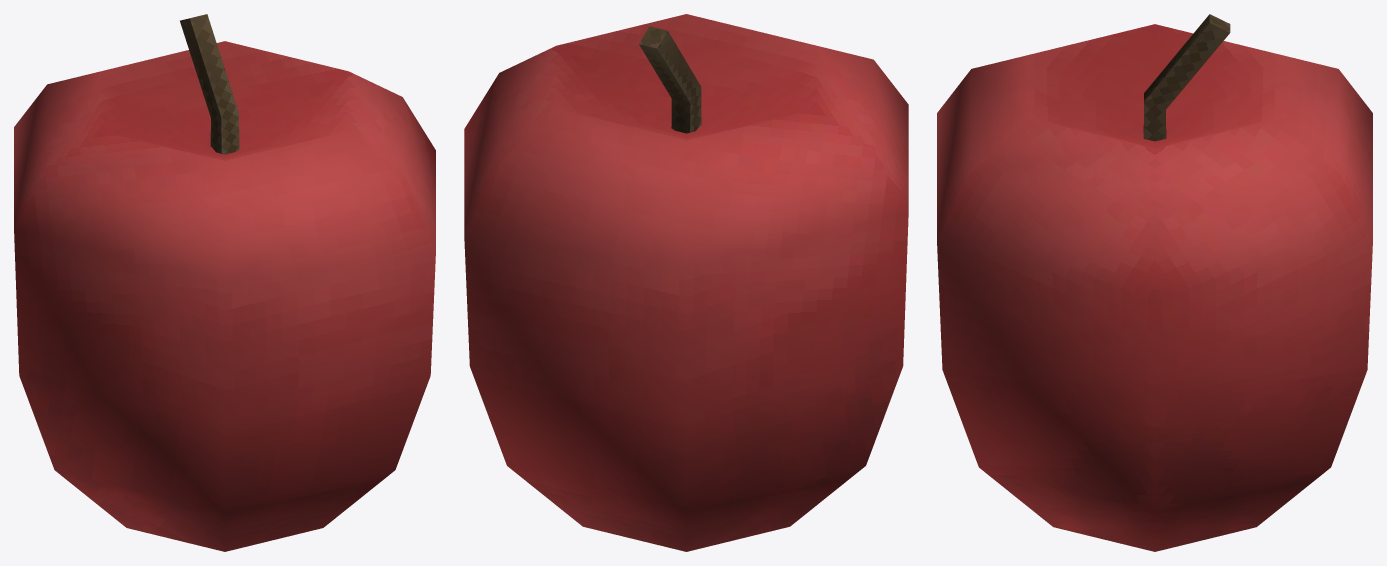
Rendered from Apple_Geo.fbx.
3 renders of one model, left to right at view 1: azimuth 30°, elevation 25°; view 2: azimuth 150°, elevation 25°; view 3: azimuth 270°, elevation 25°, orthographic. The views are drawn at different scales.
Parts seen in each view (by area): view 1: Apple_Geo; view 2: Apple_Geo; view 3: Apple_Geo.
Boxes of the visible parts, left/top/right/bottom form: Apple_Geo: left=14, top=14, right=435, bottom=551; Apple_Geo: left=464, top=14, right=908, bottom=551; Apple_Geo: left=937, top=14, right=1372, bottom=551.
Bounding box in the file's own units: 9.67 × 10.73 × 8.37.
